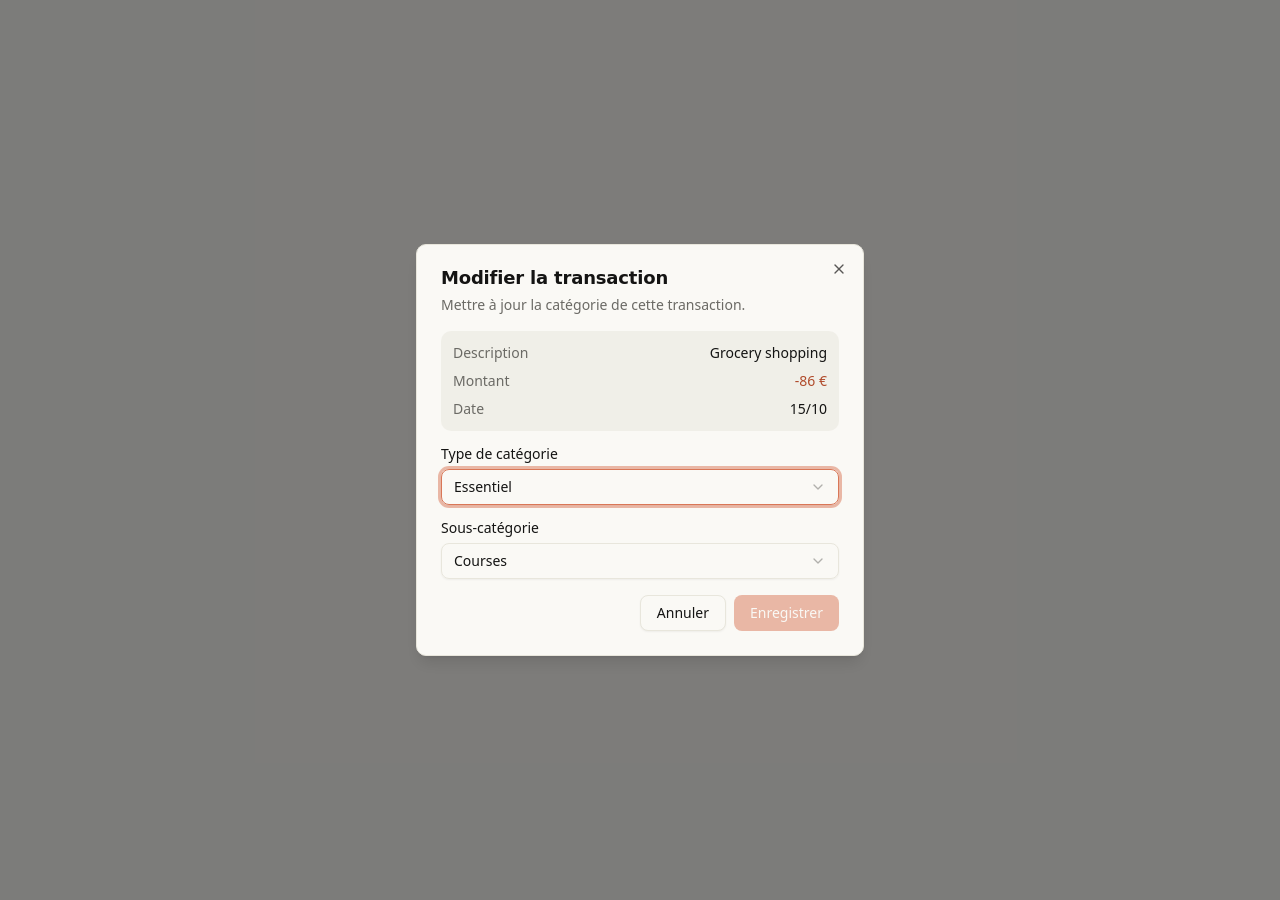
TransactionEditModal › Save Button State › enables save button when type is changed
Click the dropdown named "Type de catégorie".
click(483, 486)  # box [441,469,839,505]
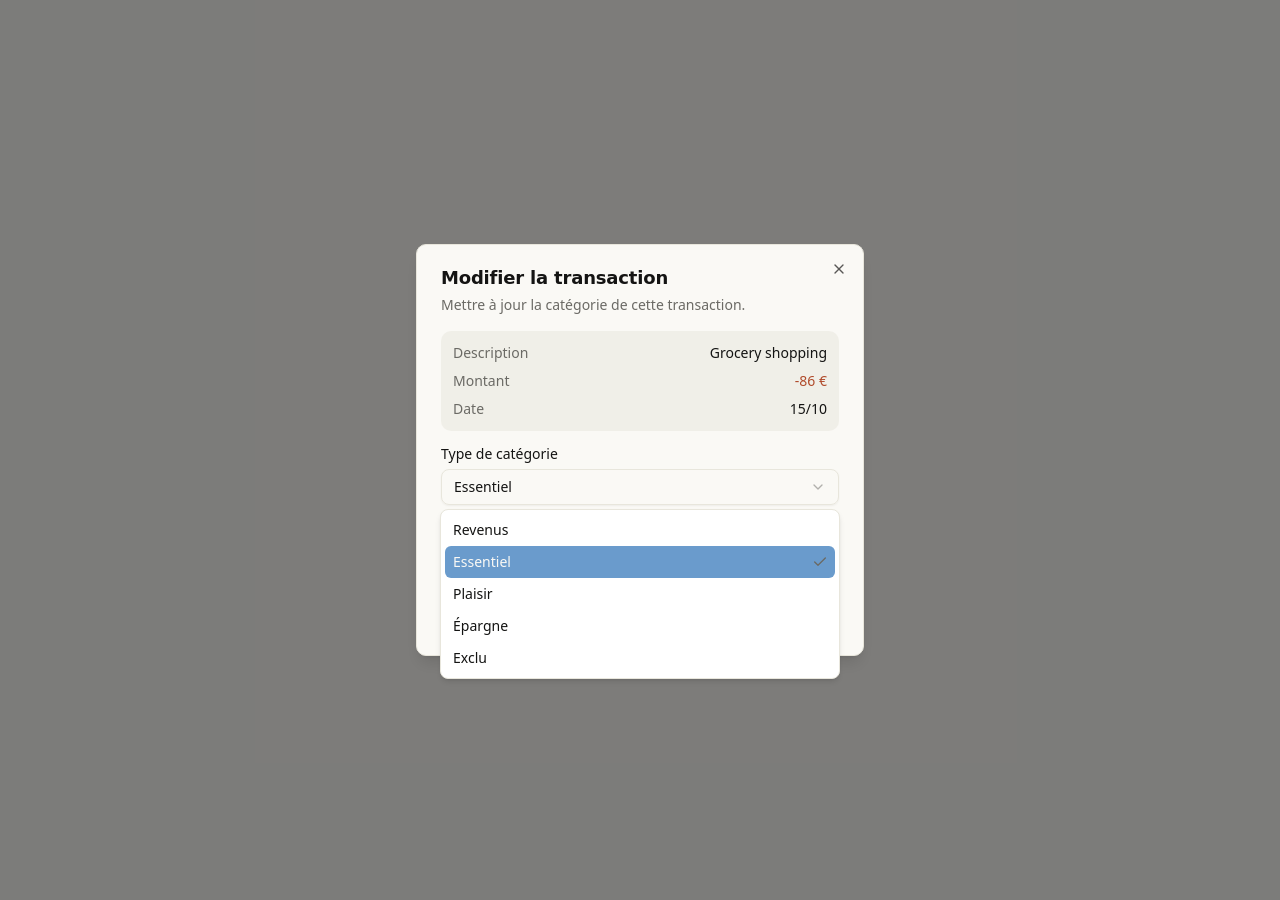
Click the option "Plaisir".
click(473, 594)  # box [453,584,493,603]
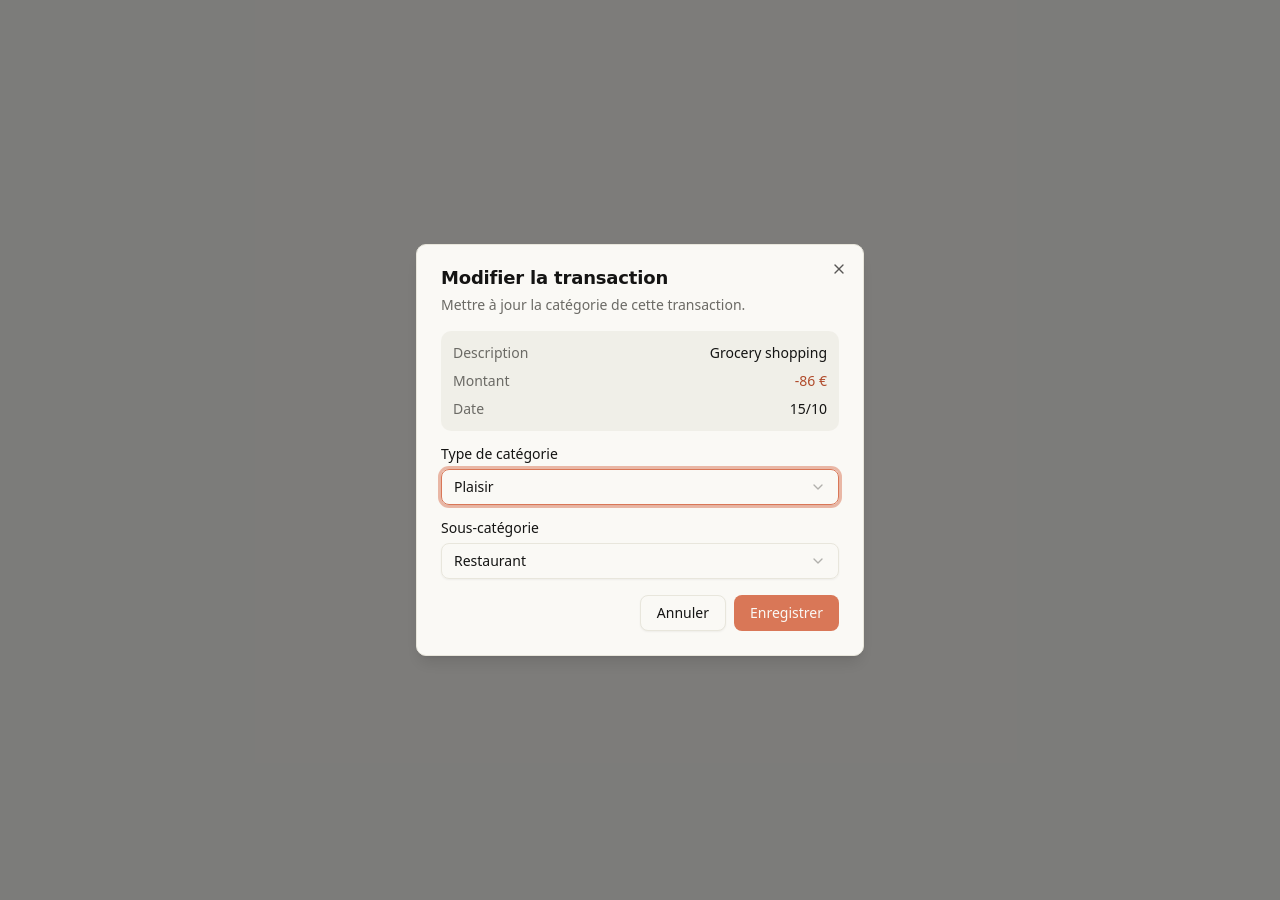
Result: the button "Enregistrer" is enabled at [734,595,839,631]
